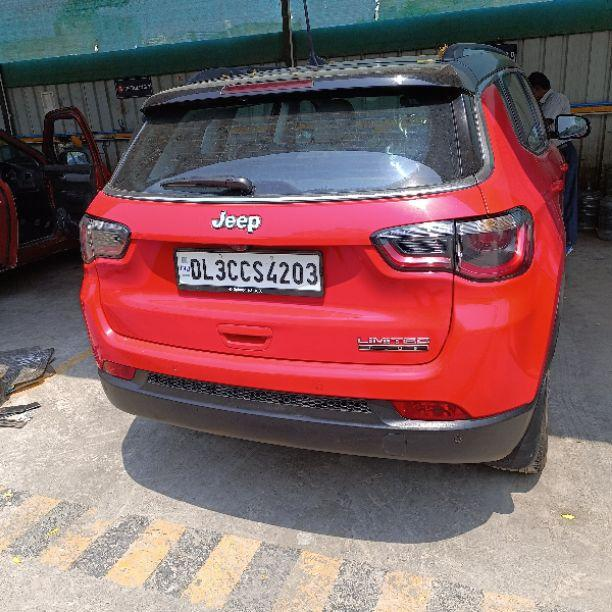license_plate: (173, 247, 324, 296)
